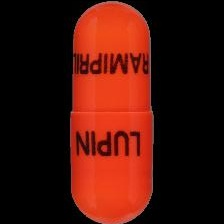68180-589: (0, 0, 224, 224)
